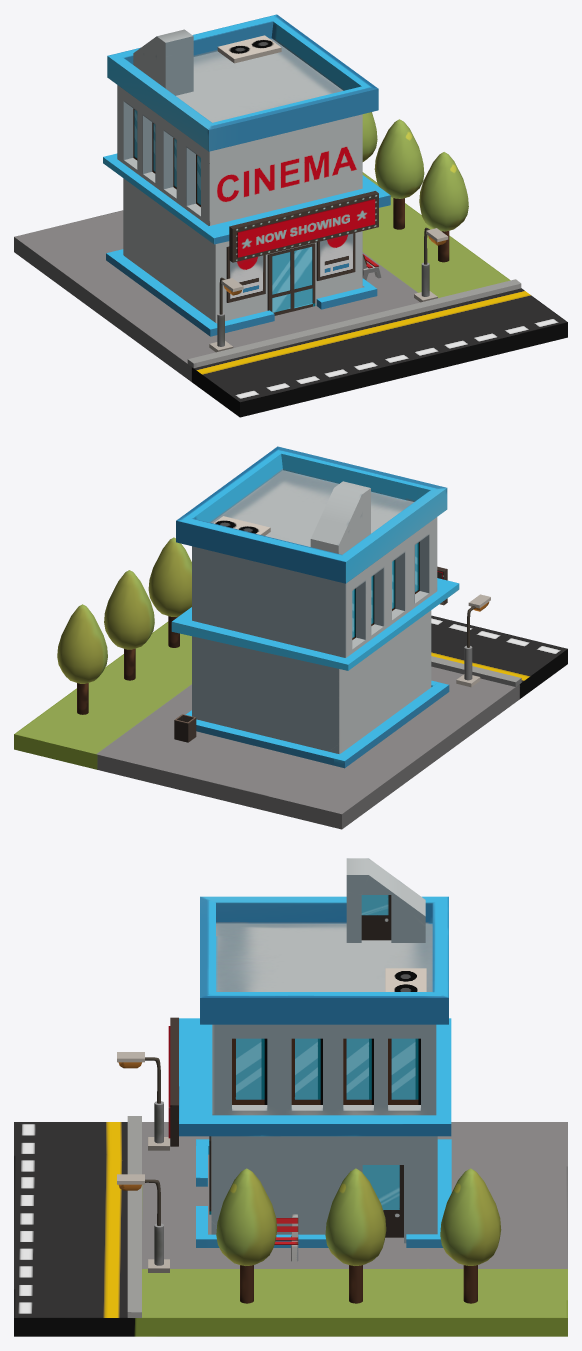
File: maya2sketchfab.fbx
3 renders of one model, top to bottom at view 1: azimuth 30°, elevation 25°; view 2: azimuth 150°, elevation 25°; view 3: azimuth 270°, elevation 25°, orthographic. The views are drawn at different scales.
Parts seen in each view (by area): view 1: Cinema_Asset; view 2: Cinema_Asset; view 3: Cinema_Asset.
Boxes of the visible parts, bbox=[...] form: Cinema_Asset: bbox=[14, 14, 567, 417]; Cinema_Asset: bbox=[14, 446, 567, 829]; Cinema_Asset: bbox=[14, 858, 567, 1336].
Bounding box in the file's own units: 126 × 95.45 × 150.
